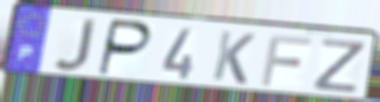4: (160, 27, 196, 80)
F: (258, 33, 314, 88)
J: (50, 18, 99, 74)
K: (209, 29, 257, 87)
P: (96, 17, 155, 79)
Z: (310, 37, 370, 96)
